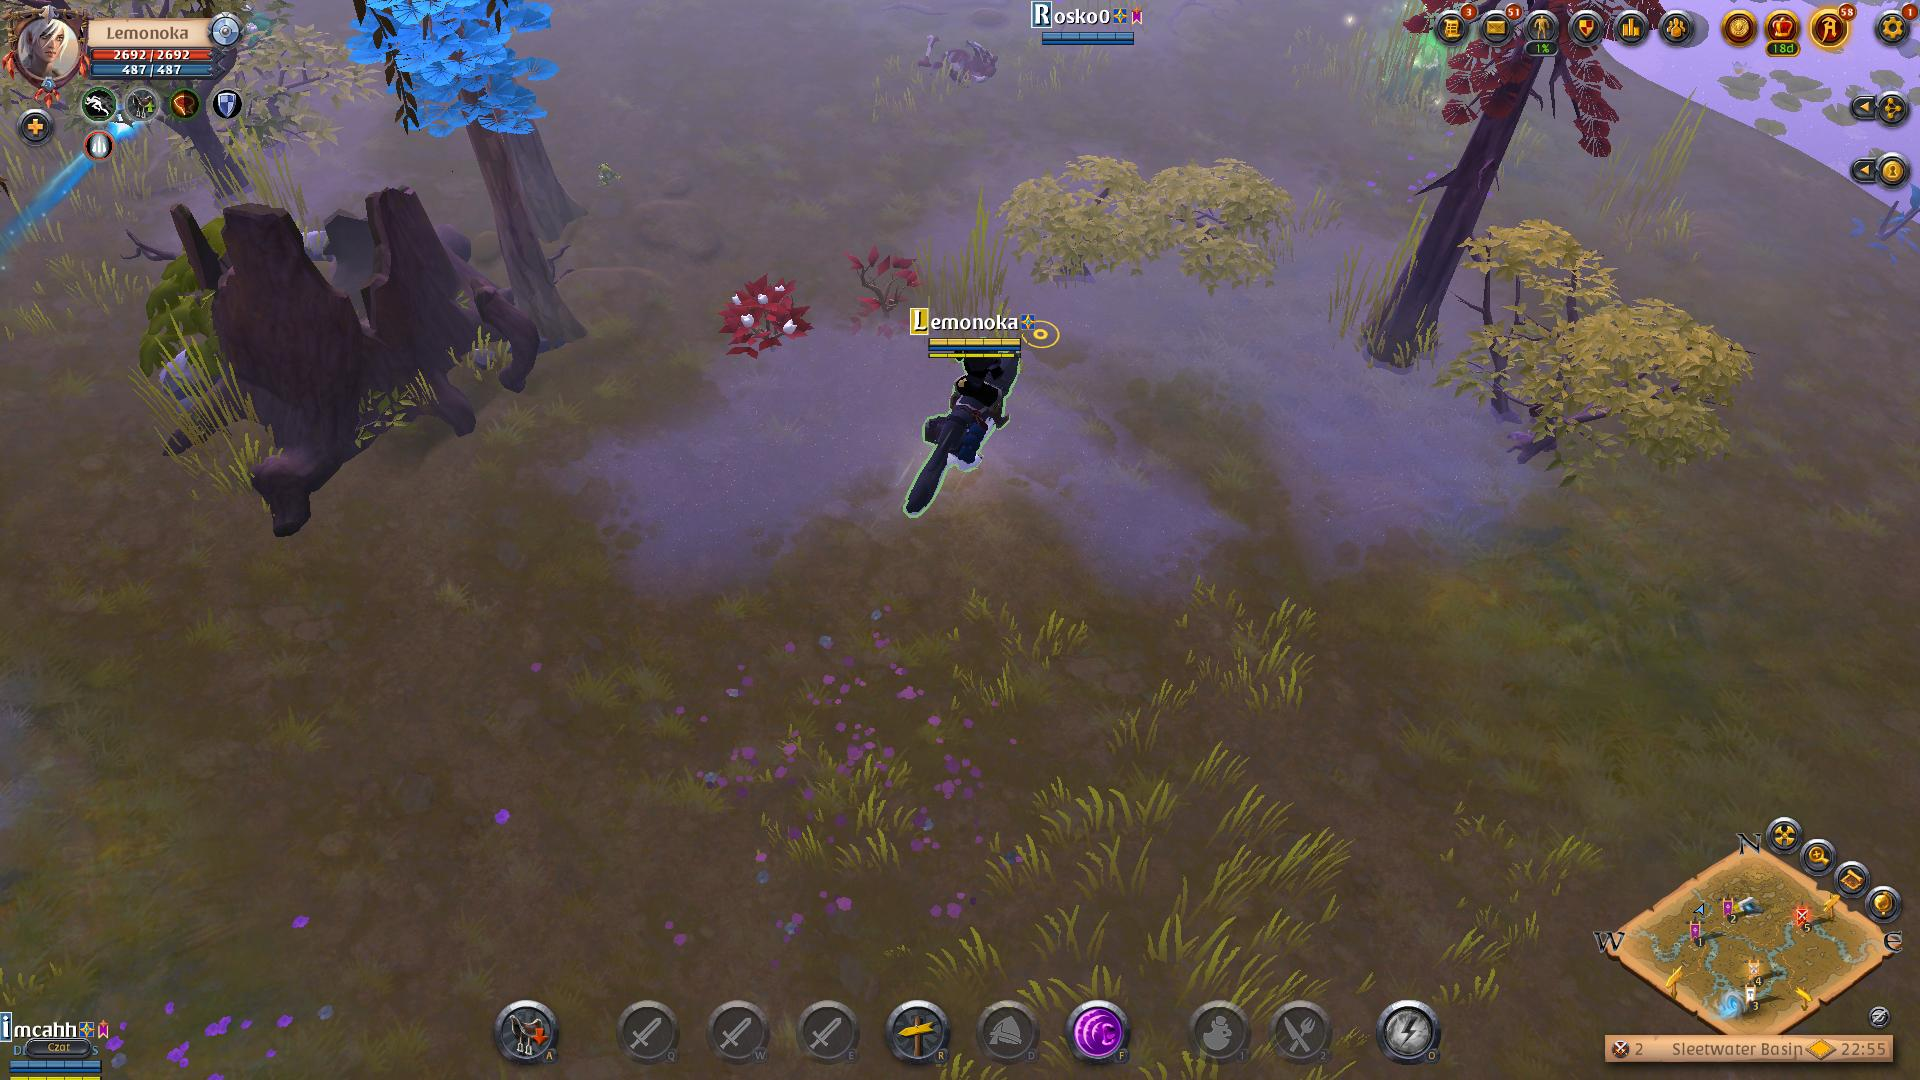fiber tier 5: (719, 273, 820, 367)
